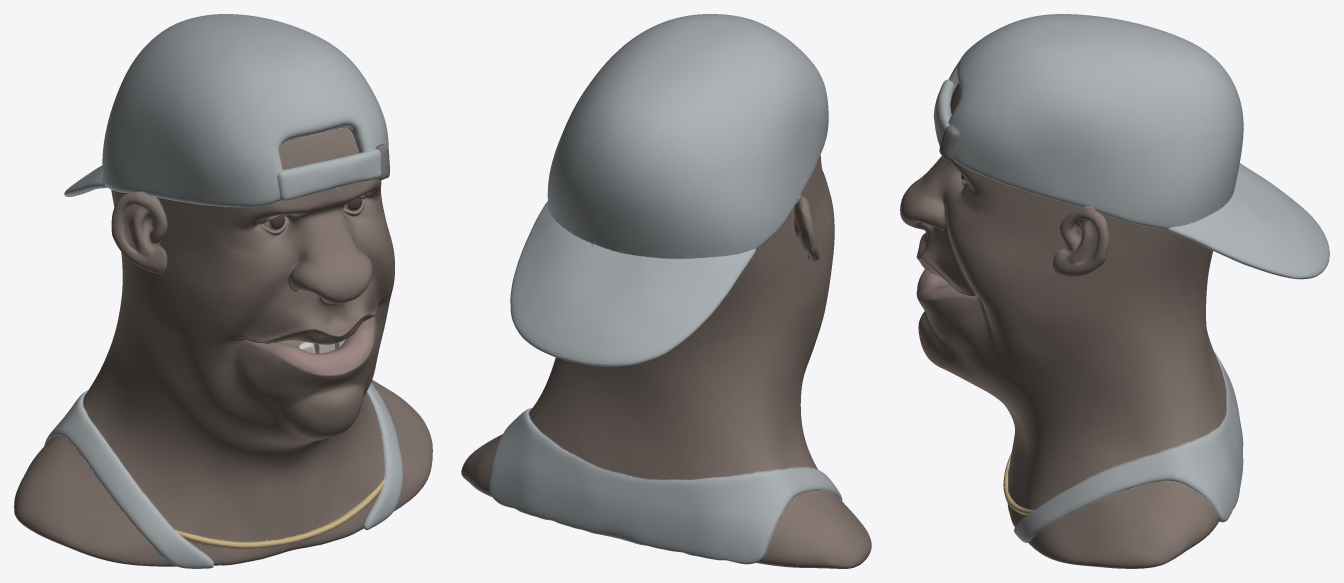
Rendered from rapper.glb.
The picture shows the model from 3 angles, left to right: view 1: azimuth 30°, elevation 25°; view 2: azimuth 150°, elevation 25°; view 3: azimuth 270°, elevation 25°; orthographic projection. The views are drawn at different scales.
Visible parts, largest first — view 1: Object_2; view 2: Object_2; view 3: Object_2.
Part boxes in pixels (left/top/right/bottom): Object_2: left=14, top=14, right=432, bottom=568; Object_2: left=461, top=14, right=871, bottom=568; Object_2: left=900, top=14, right=1329, bottom=568.
Bounding box in the file's own units: 3.94 × 4.59 × 3.81.
